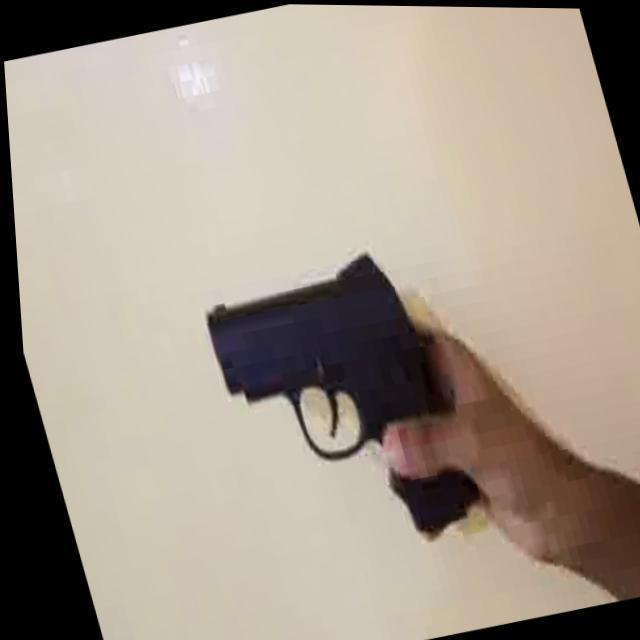weapon: (185, 189, 640, 640)
